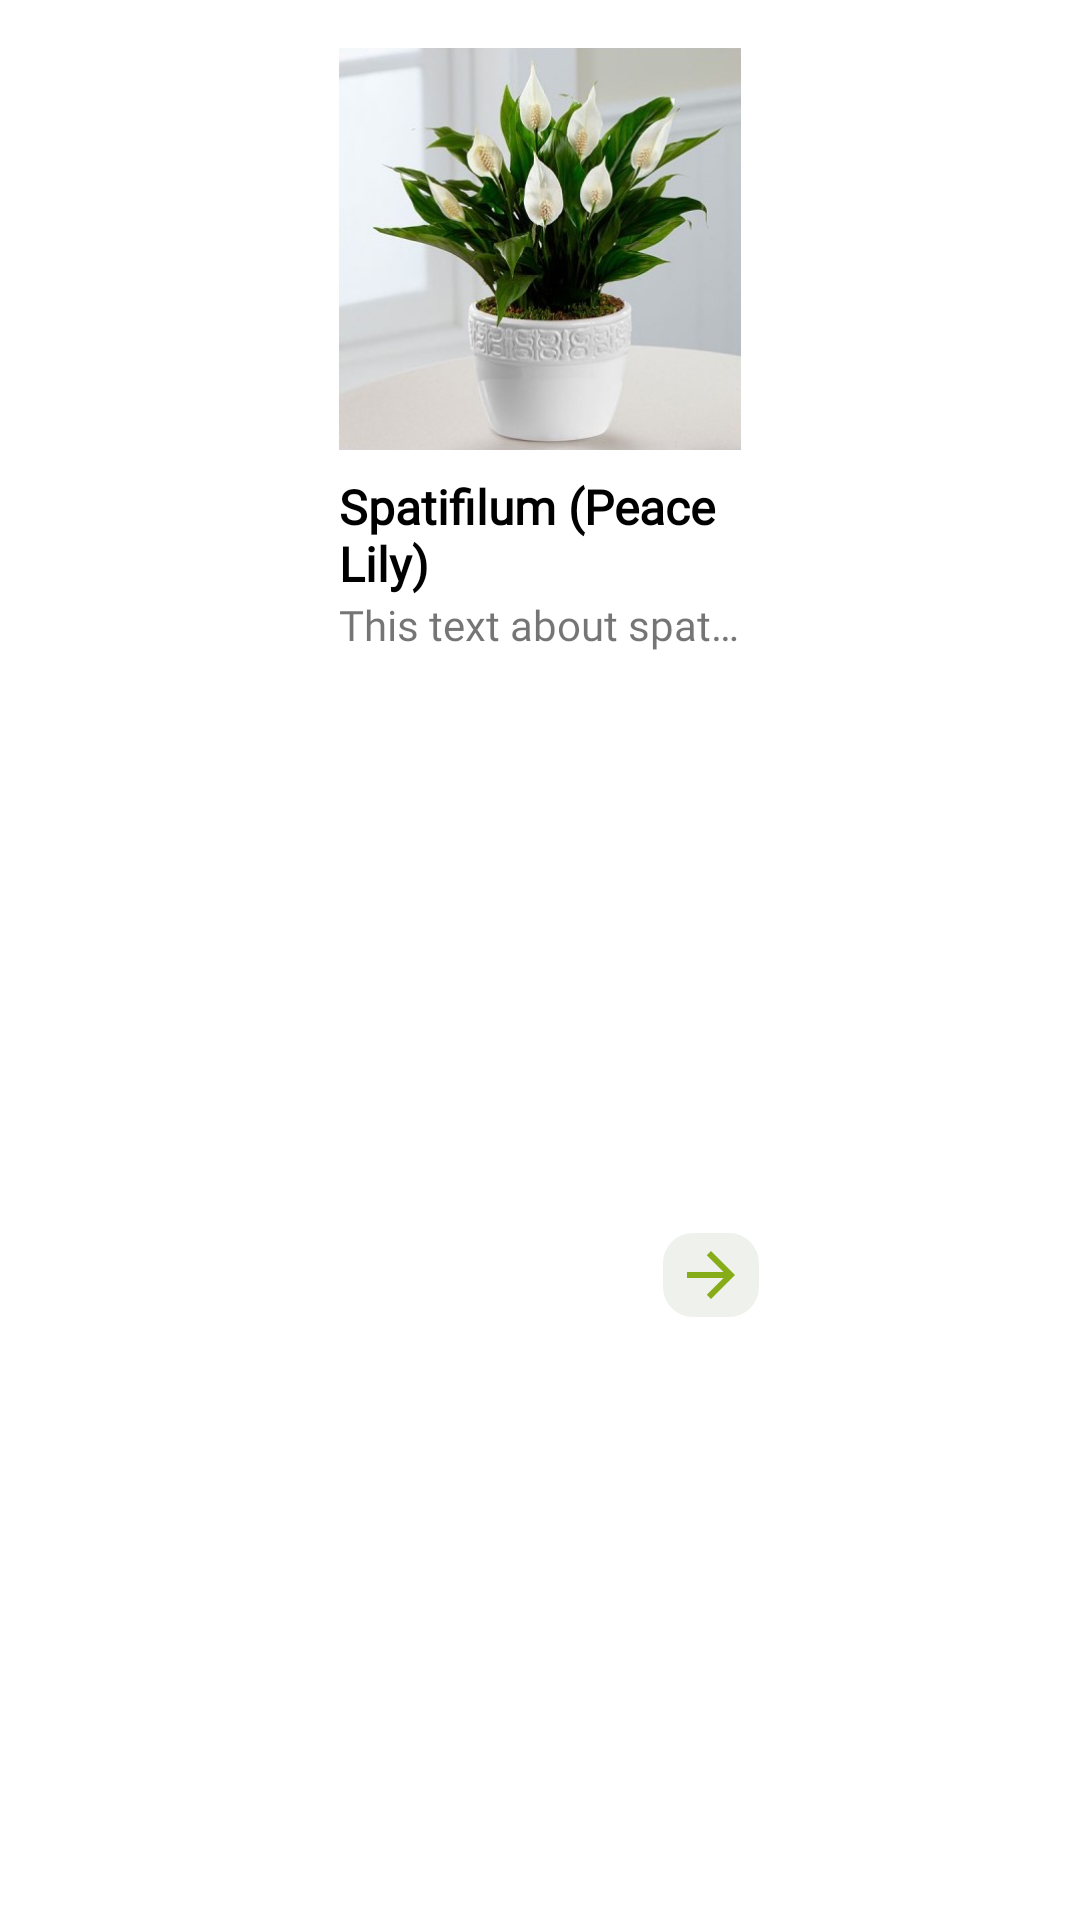

Icons on this 1080w x 1920h Android screen, each with the point to tap as (x=x, y=y):
arrow forward: (x=711, y=1275)
